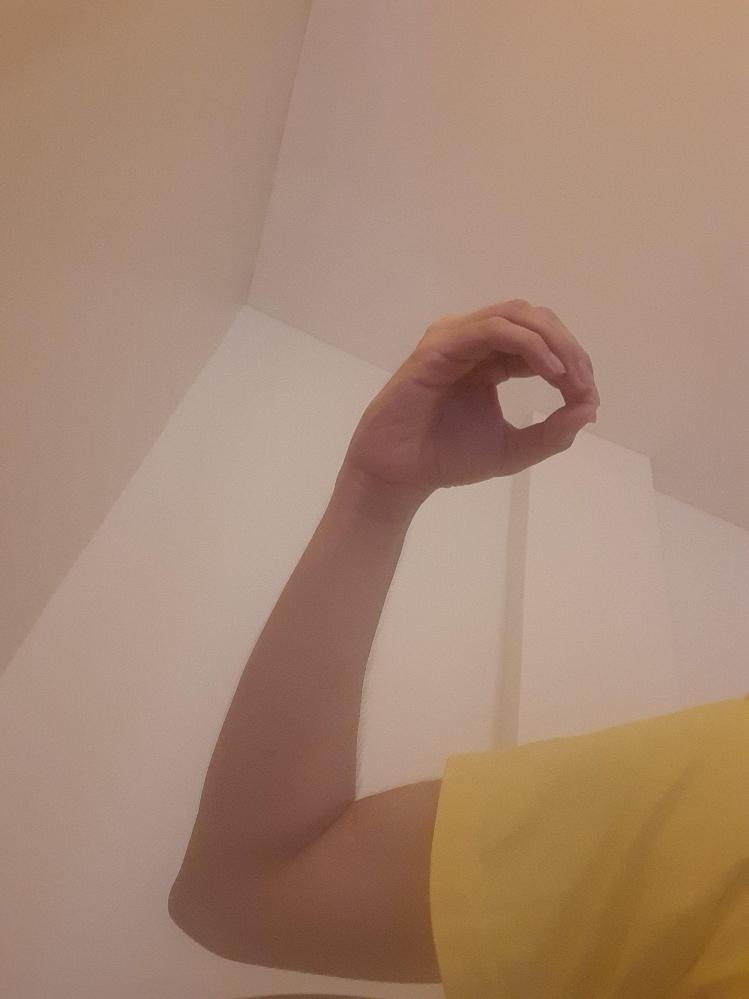o: (344, 298, 600, 490)
